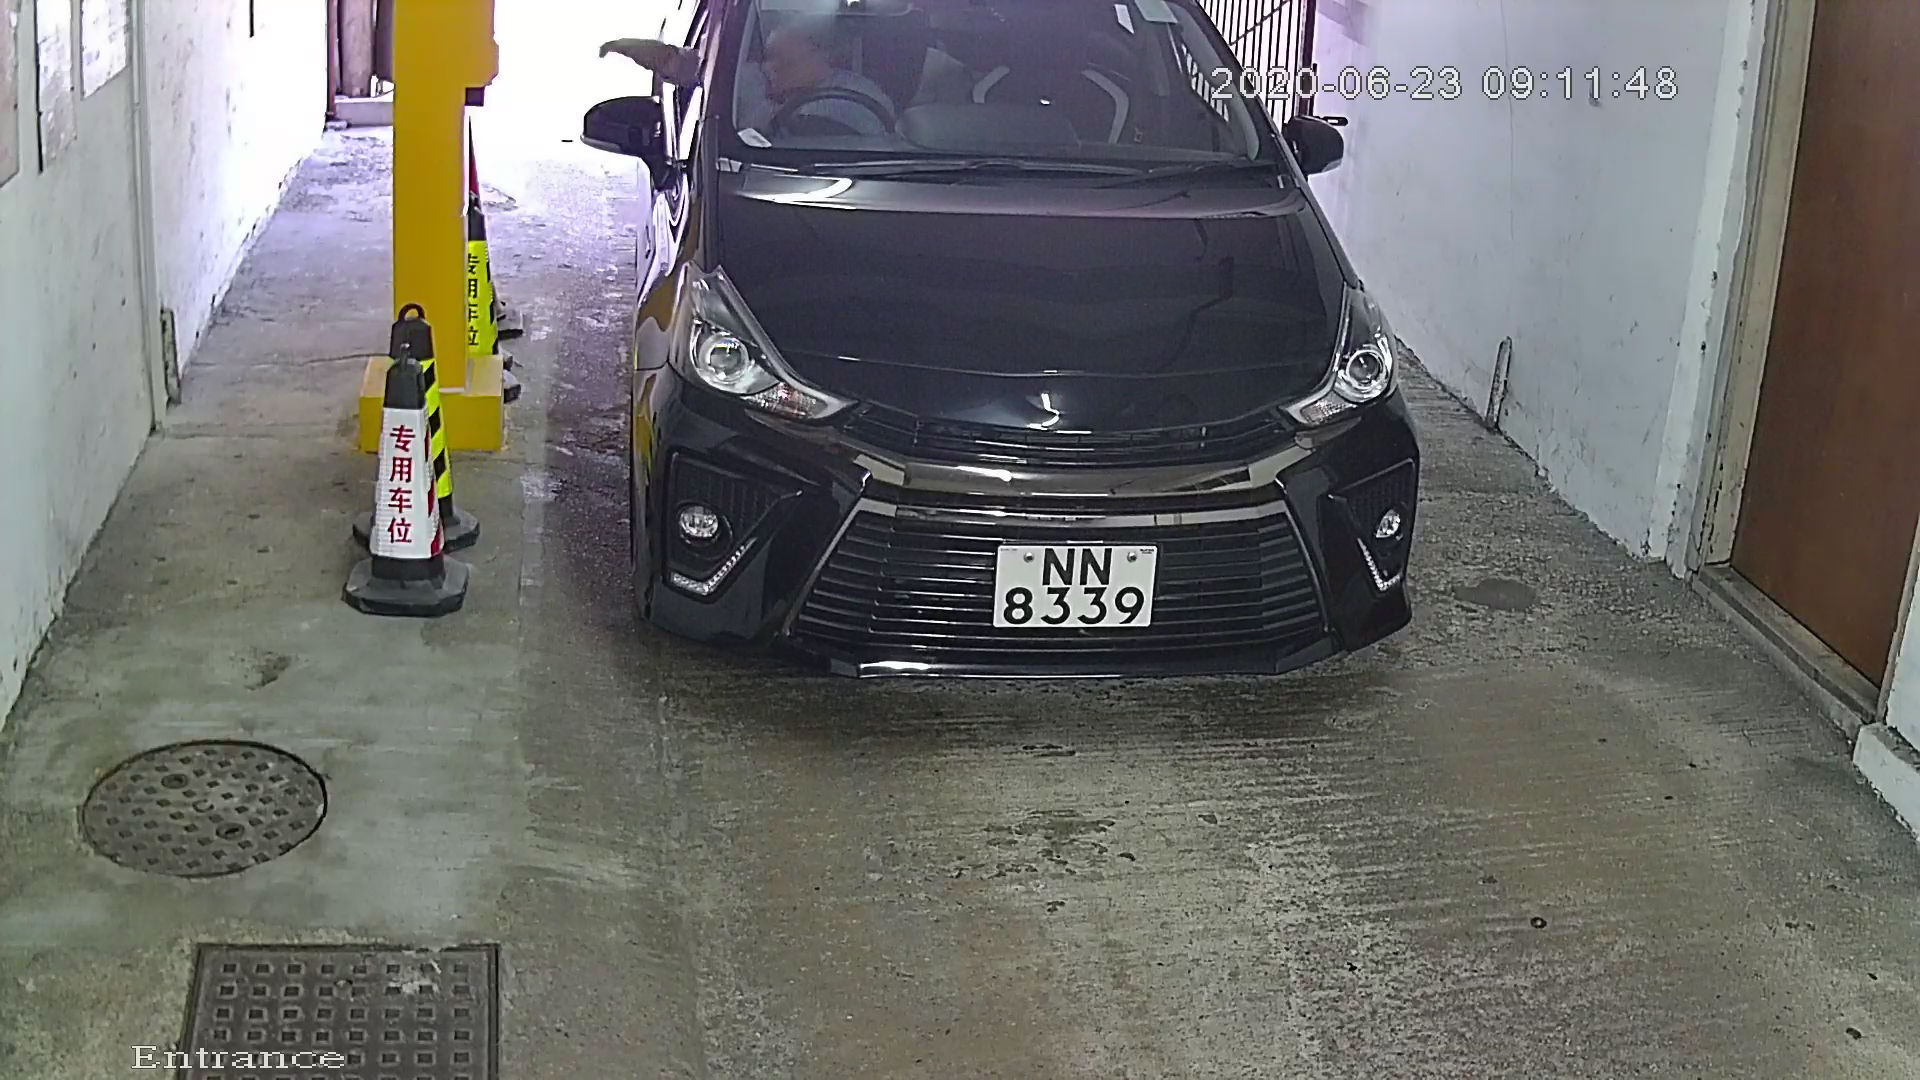privatecar: (584, 3, 1440, 740)
